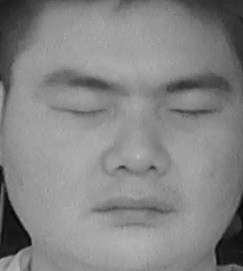blink: (51, 95, 111, 127), (169, 93, 216, 129)
mouth: (94, 185, 173, 234)
